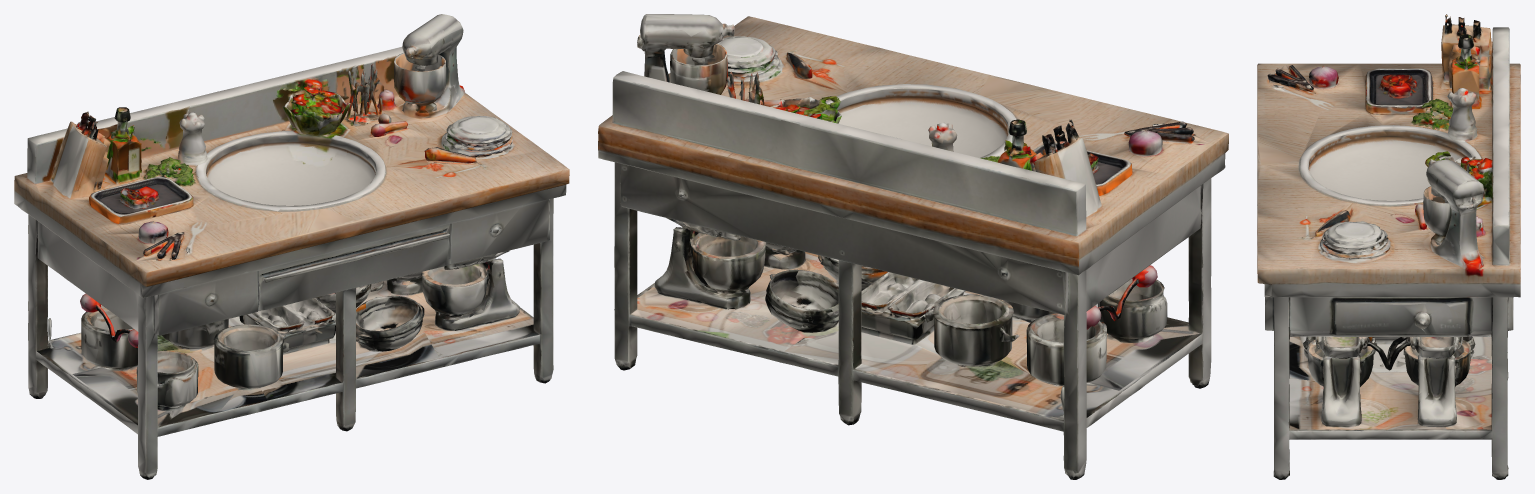
Rendered from Env_KitchenIsland.fbx.
The picture shows the model from 3 angles, left to right: view 1: azimuth 30°, elevation 25°; view 2: azimuth 150°, elevation 25°; view 3: azimuth 270°, elevation 25°; orthographic projection. The views are drawn at different scales.
Parts seen in each view (by area): view 1: Env_KitchenIsland; view 2: Env_KitchenIsland; view 3: Env_KitchenIsland.
Boxes of the visible parts, bbox=[...] form: Env_KitchenIsland: bbox=[14, 14, 569, 479]; Env_KitchenIsland: bbox=[598, 14, 1228, 479]; Env_KitchenIsland: bbox=[1257, 14, 1520, 479].
Size of the model in its own units: 1.8 by 1.2 by 0.9678.
